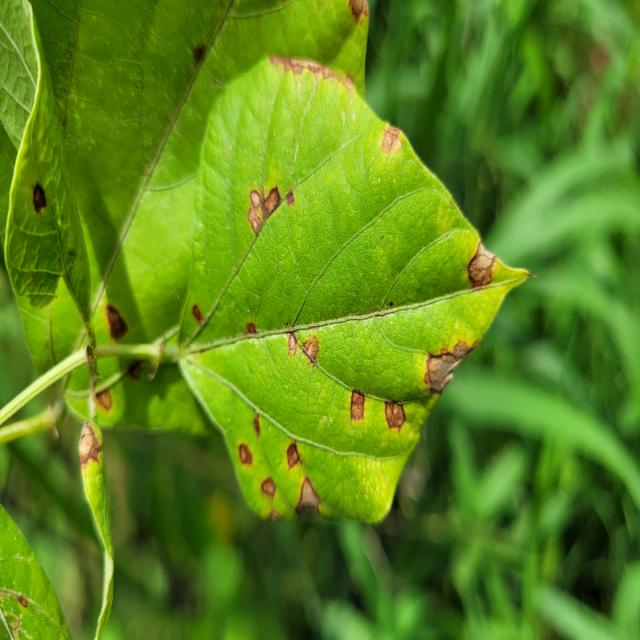Dolicos bean_cercospora leaf spot: (179, 50, 533, 521)
